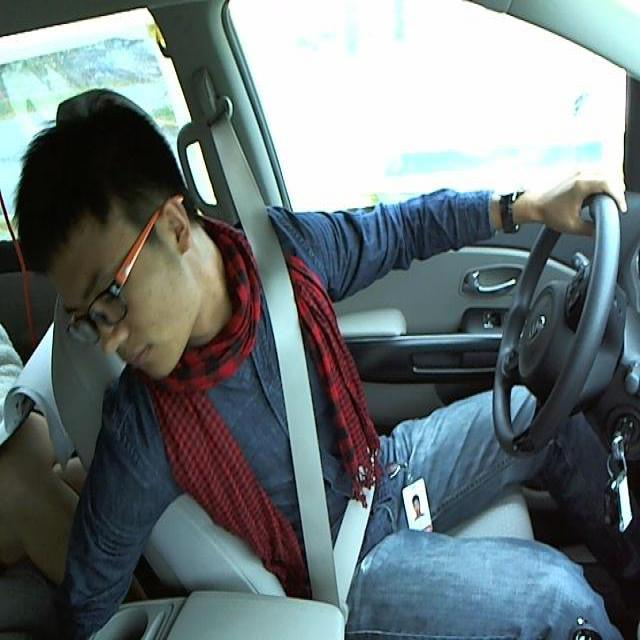seatbelt: (244, 242, 387, 594)
